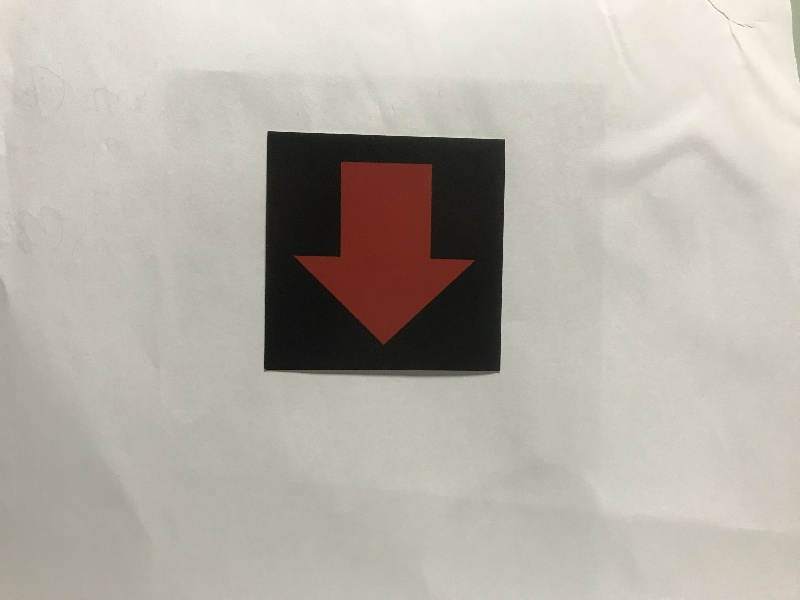DA-2: (272, 142, 498, 368)
